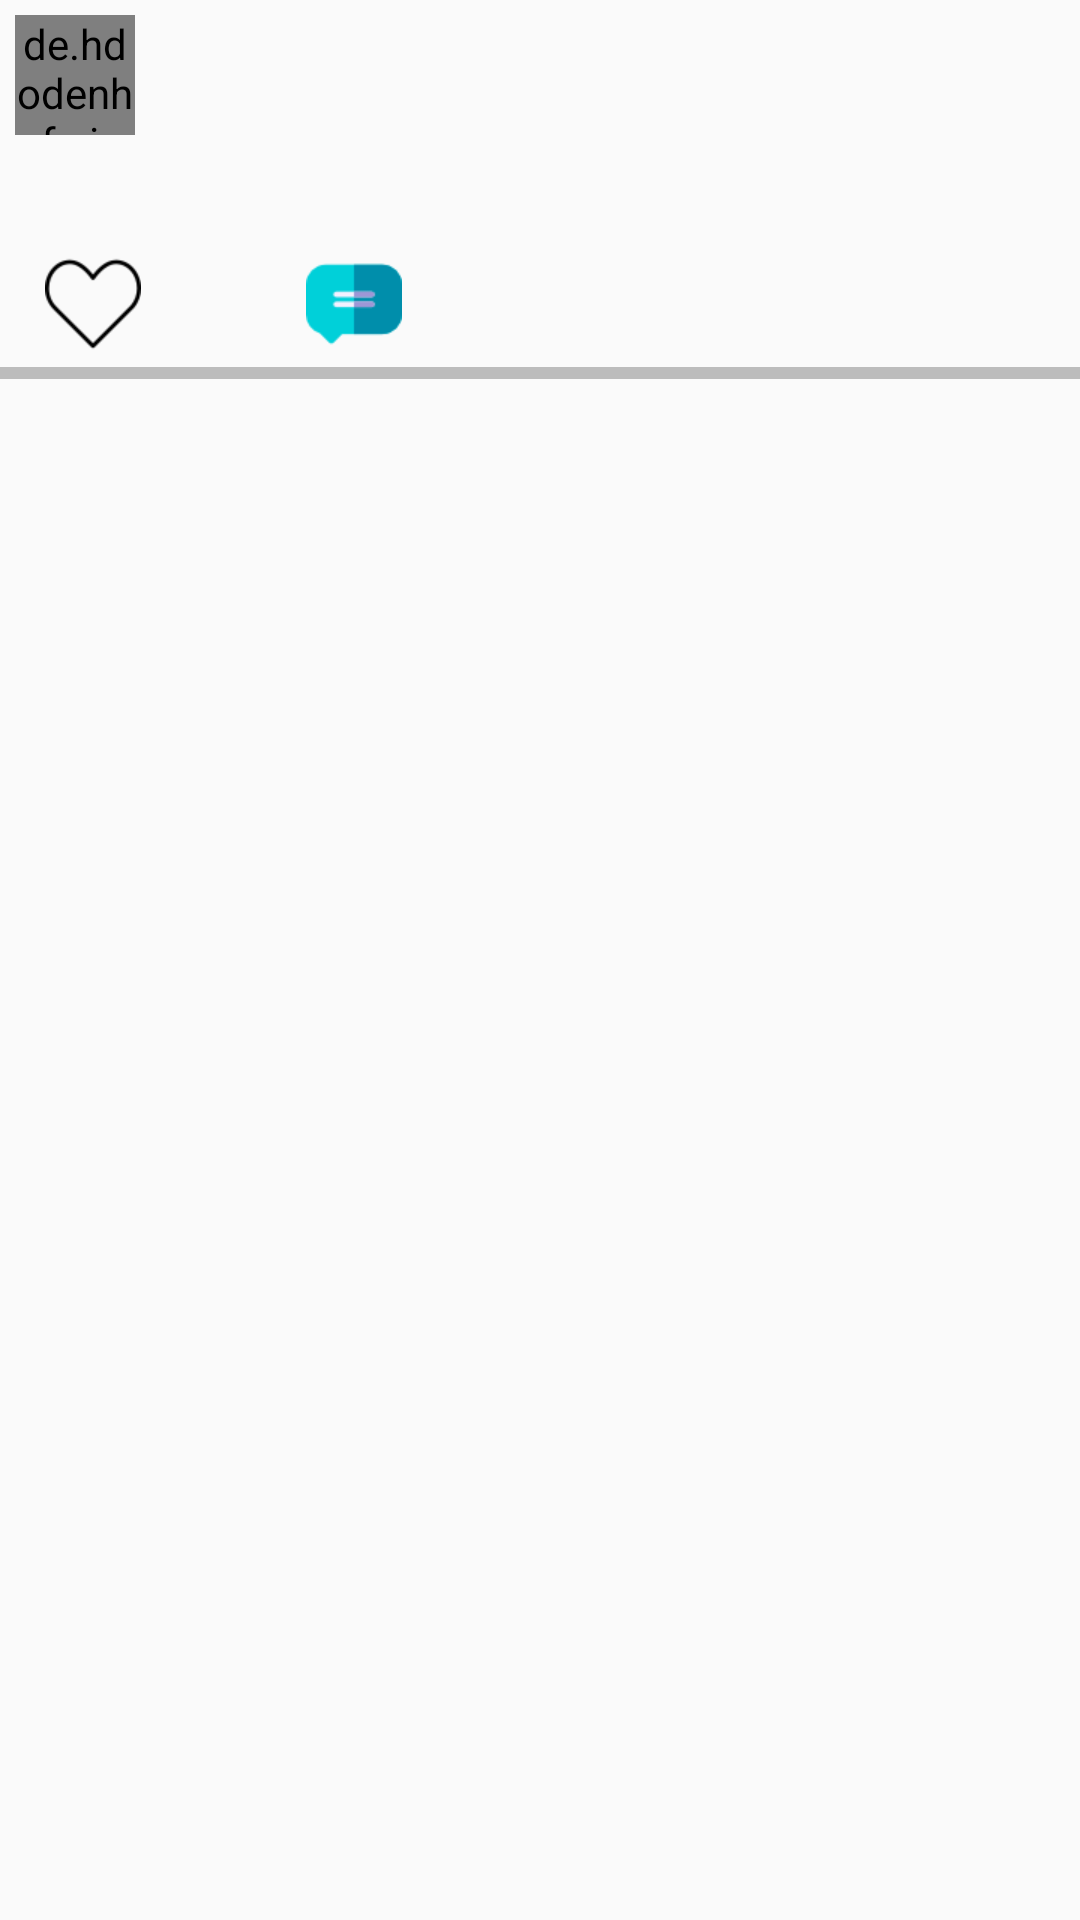

Where to tap for icons on this 1080px x 1920px app screen, as point (x, y):
comment: point (354, 304)
heart: point (93, 304)
